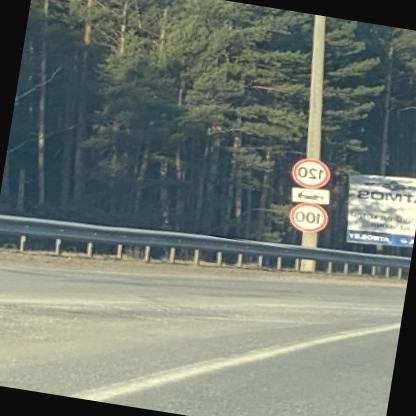speedlimit: (289, 199, 331, 234), (292, 155, 334, 188)
